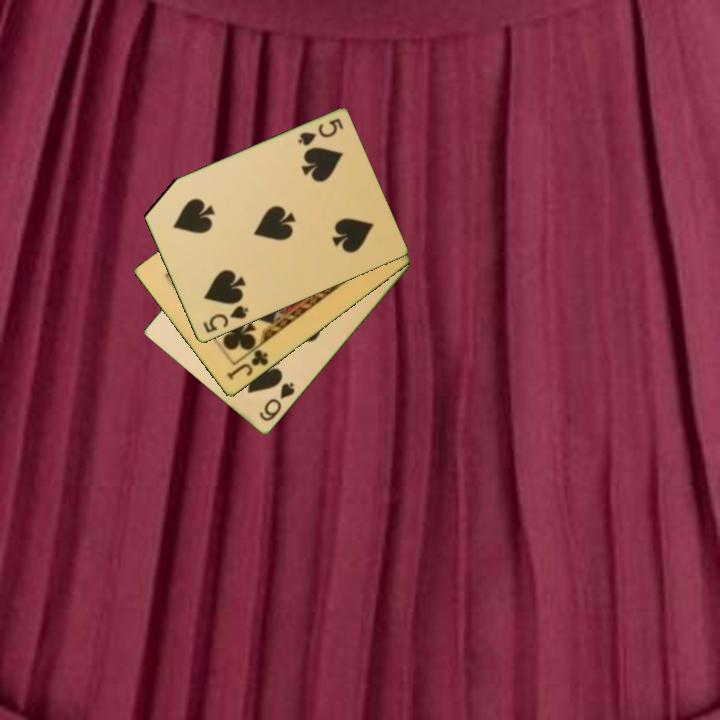5s: (199, 302, 251, 336), (294, 115, 346, 149)
6s: (256, 379, 298, 425)
Jc: (223, 346, 271, 383)
